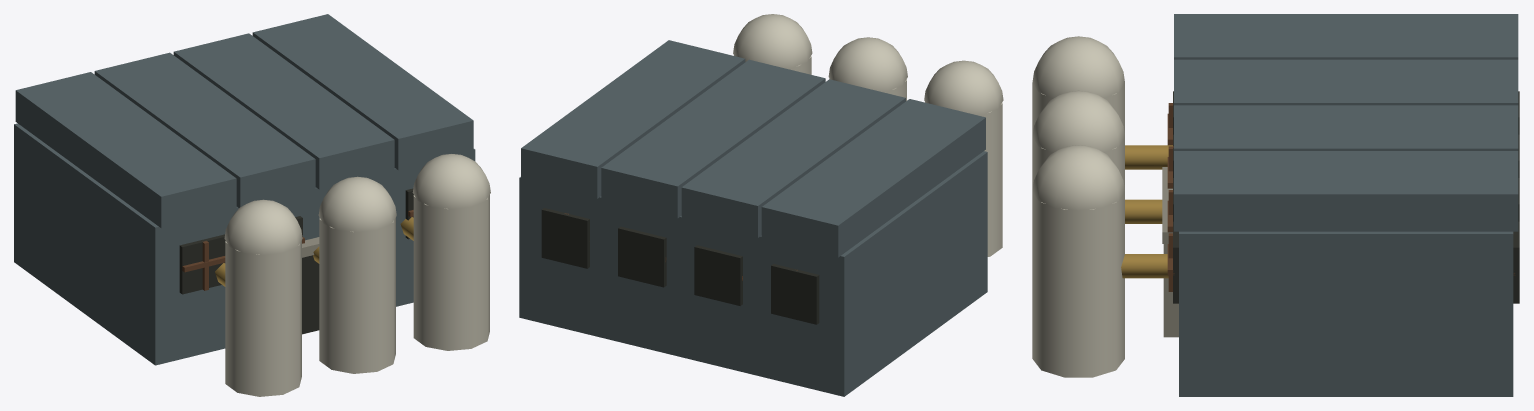
Rendered from custom-imp-chemplant.glb.
The picture shows the model from 3 angles, left to right: view 1: azimuth 30°, elevation 25°; view 2: azimuth 150°, elevation 25°; view 3: azimuth 270°, elevation 25°; orthographic projection. The views are drawn at different scales.
Visible parts, largest first — view 1: custom-imp-chemplant; view 2: custom-imp-chemplant; view 3: custom-imp-chemplant.
Boxes of the visible parts, x1,y1,x2,y2 form: custom-imp-chemplant: (14, 14, 490, 396); custom-imp-chemplant: (519, 14, 1003, 396); custom-imp-chemplant: (1032, 14, 1519, 396).
Bounding box in the file's own units: 0.8976 × 0.4752 × 1.
